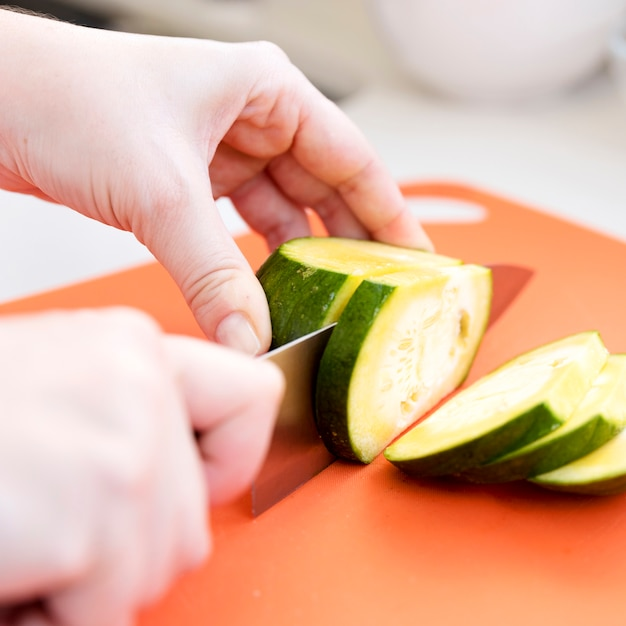knife: (144, 262, 548, 520)
